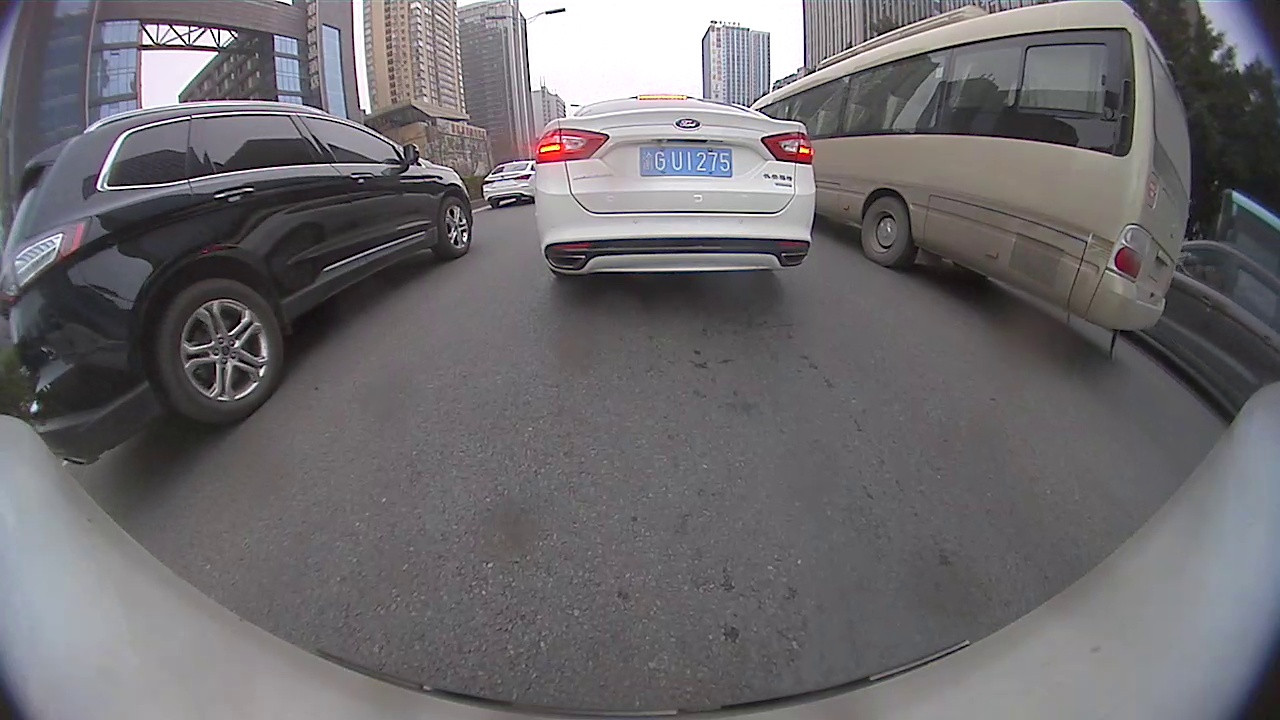bus: (748, 0, 1193, 333)
car: (0, 97, 475, 466), (534, 94, 816, 280), (1139, 238, 1279, 411), (480, 161, 538, 208)
front: (435, 195, 473, 260)
rear: (153, 274, 286, 429), (860, 197, 911, 269)
